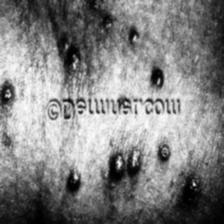Toxin: (0, 140, 215, 224), (40, 0, 196, 84), (0, 68, 21, 120)
